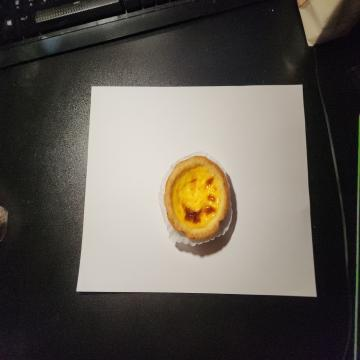EggTart: (165, 155, 230, 242)
